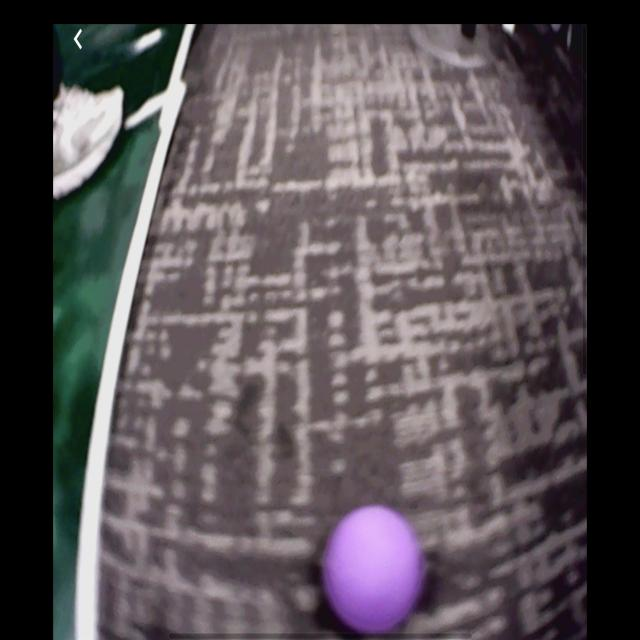ball: (326, 505, 419, 639)
